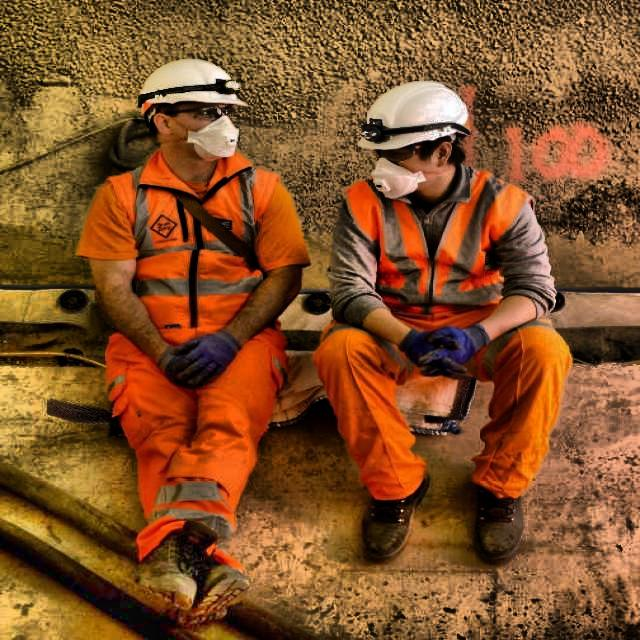person: (65, 45, 316, 640), (312, 81, 578, 574)
